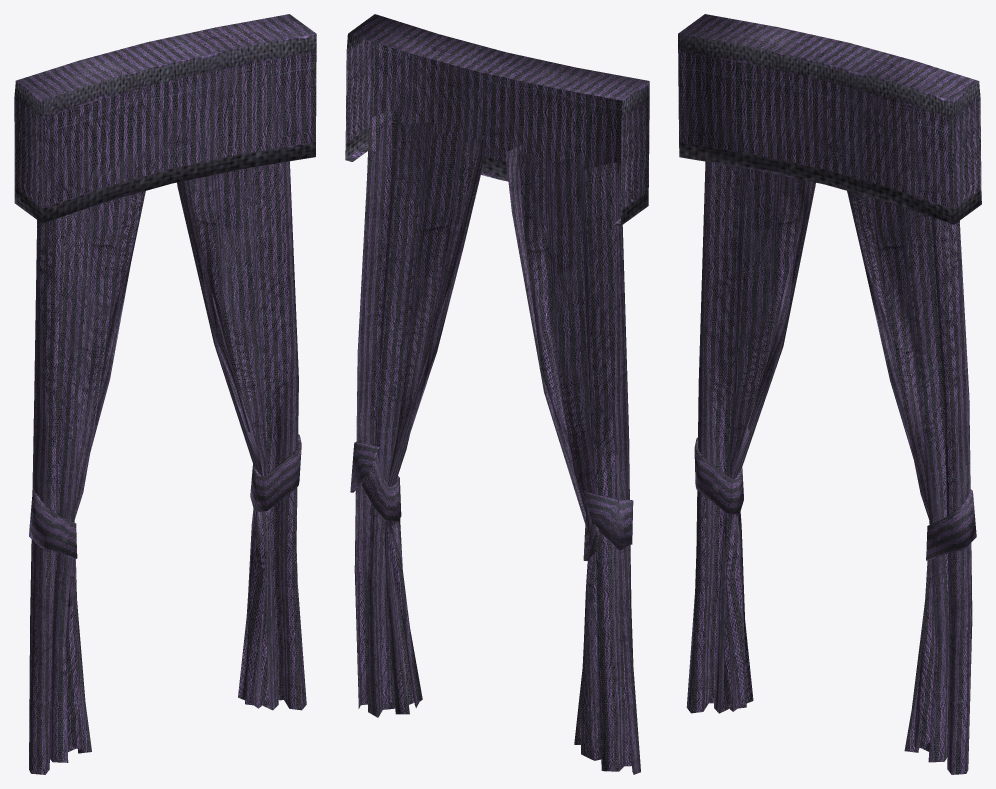
The model's file is Curtains_Curved.fbx.
3 views of the same model, side by side, from view 1: azimuth 30°, elevation 25°; view 2: azimuth 150°, elevation 25°; view 3: azimuth 330°, elevation 25° (orthographic).
Parts seen in each view (by area): view 1: BetterCurtain; view 2: BetterCurtain; view 3: BetterCurtain.
Boxes of the visible parts, x1,y1,x2,y2 form: BetterCurtain: (14,14,316,774); BetterCurtain: (345,14,649,774); BetterCurtain: (678,14,981,774).
Bounding box in the file's own units: 207 × 485 × 43.21.
